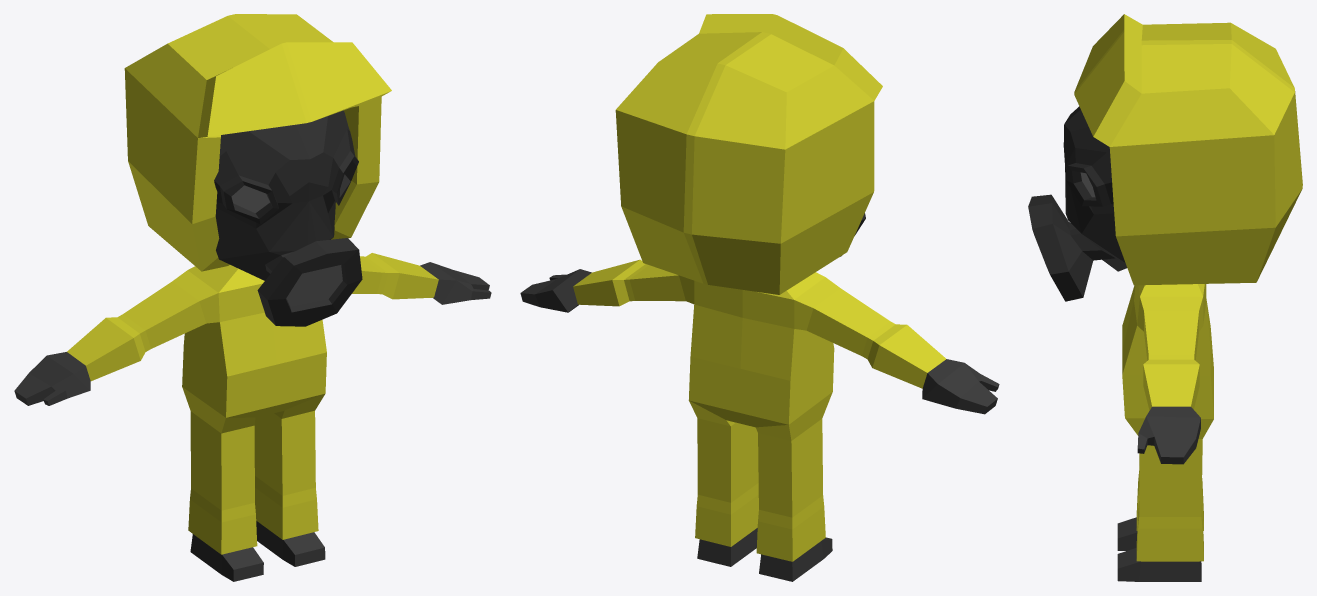
Rendered from YellowEnemy.fbx.
The picture shows the model from 3 angles, left to right: view 1: azimuth 30°, elevation 25°; view 2: azimuth 150°, elevation 25°; view 3: azimuth 270°, elevation 25°; orthographic projection.
Visible parts, largest first — view 1: Cube.002; view 2: Cube.002; view 3: Cube.002.
Part boxes in pixels (x1=…): Cube.002: x1=14, y1=14, x2=491, y2=581; Cube.002: x1=520, y1=14, x2=999, y2=581; Cube.002: x1=1028, y1=14, x2=1302, y2=581.
Bounding box in the file's own units: 736 × 792 × 371.
